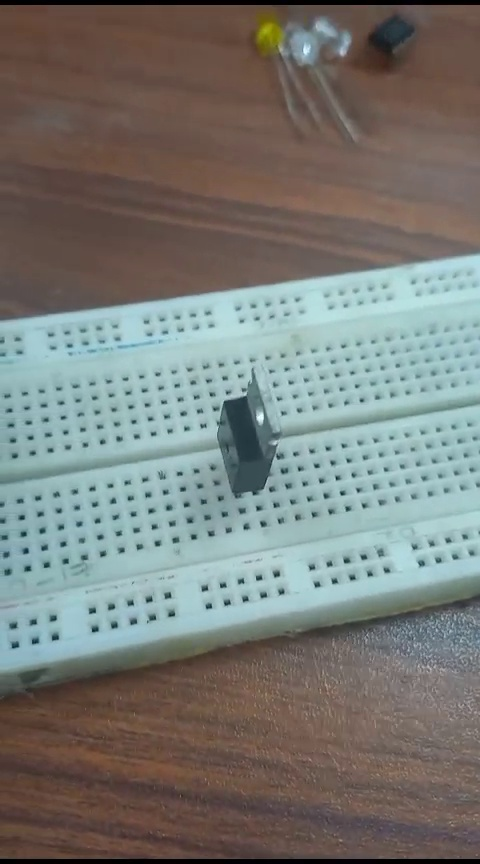voltage regulator: (206, 365, 286, 505)
